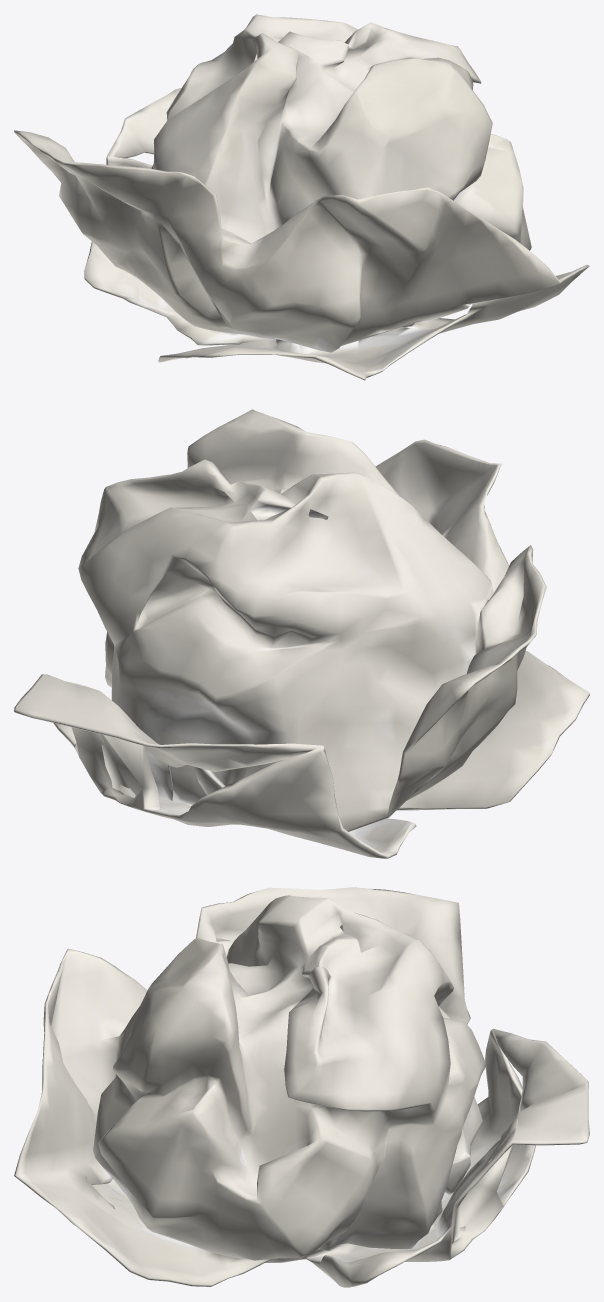
File: trash_small_10.glb
The picture shows the model from 3 angles, top to bottom: view 1: azimuth 30°, elevation 25°; view 2: azimuth 150°, elevation 25°; view 3: azimuth 270°, elevation 25°; orthographic projection. The views are drawn at different scales.
Size of the model in its own units: 1.69 by 1.19 by 1.91.
1 material, 1 textured.
